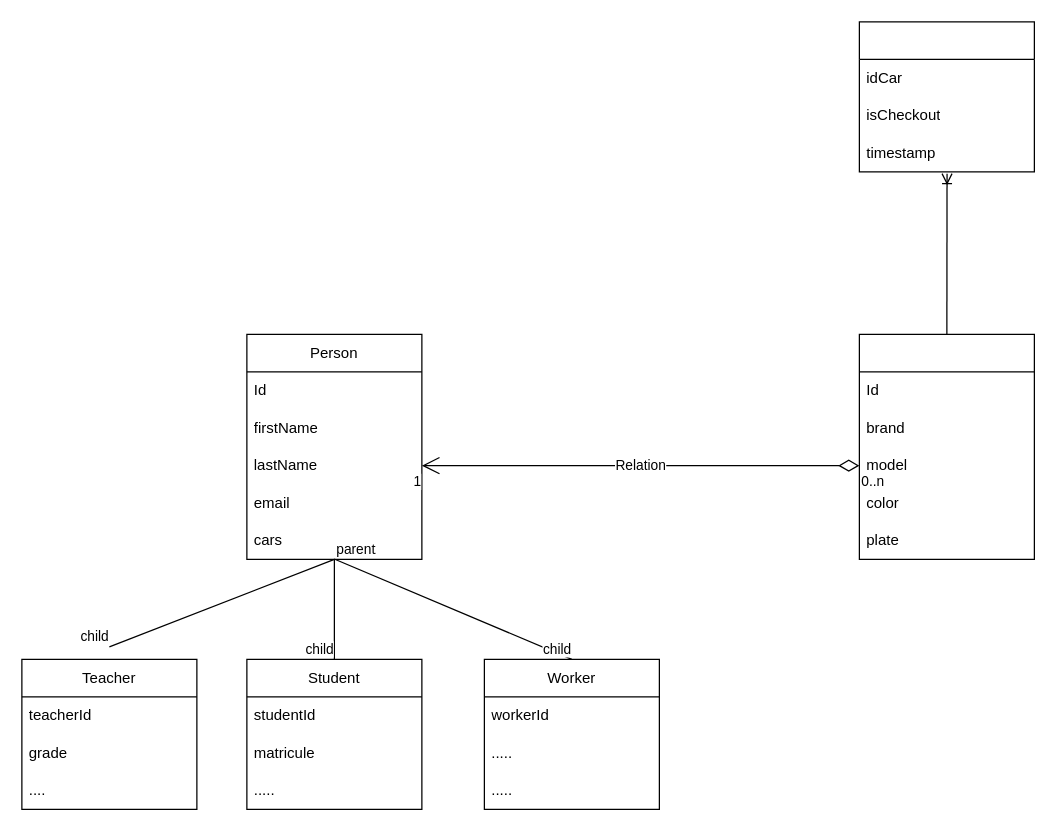
This 1056x831 diagram has some shape labels left out. The box of each missing label's shape, as (x1, y1, x2, y2) in pixels:
Car: (858, 333, 1034, 559)
CheckHistory: (858, 21, 1034, 172)
